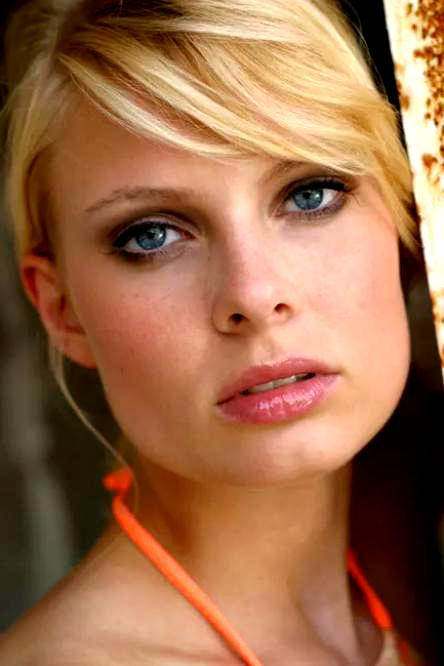face: (52, 77, 414, 479)
